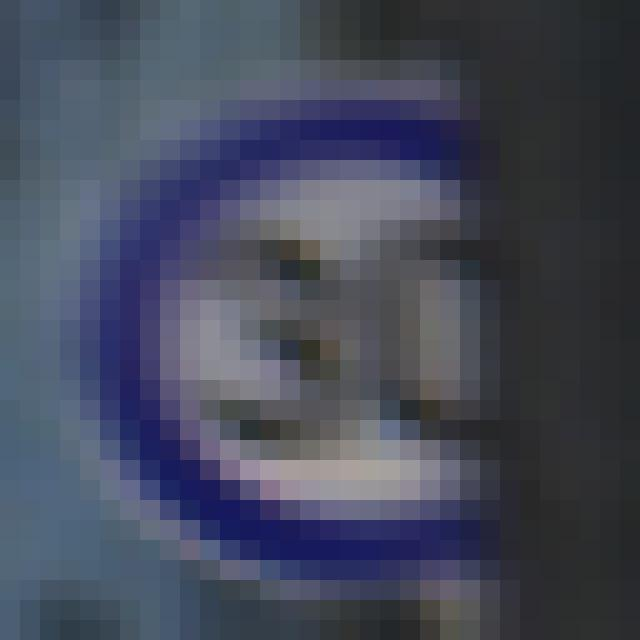SPEED LIMIT 30: (73, 104, 553, 582)
